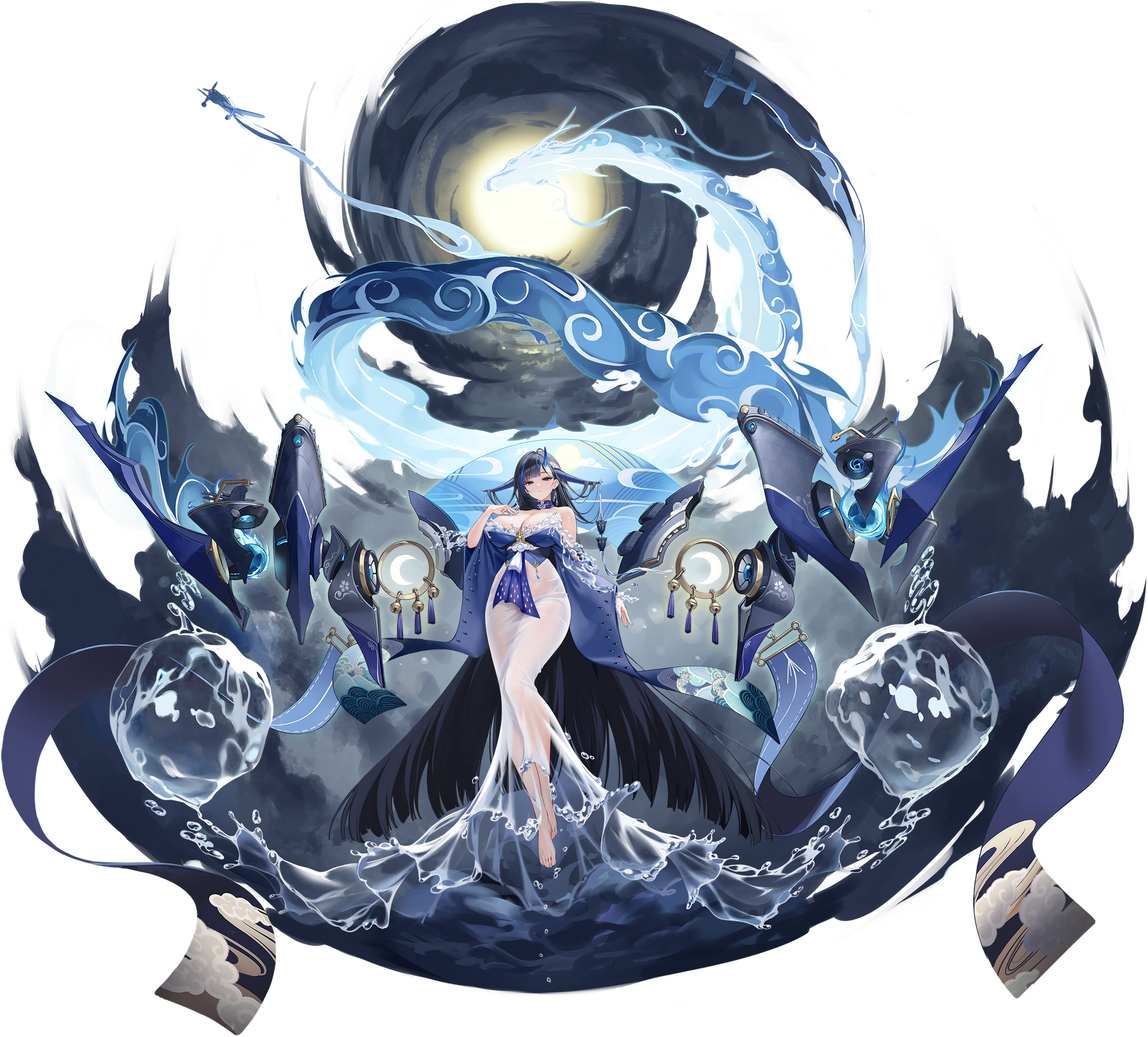person: (369, 424, 688, 928)
